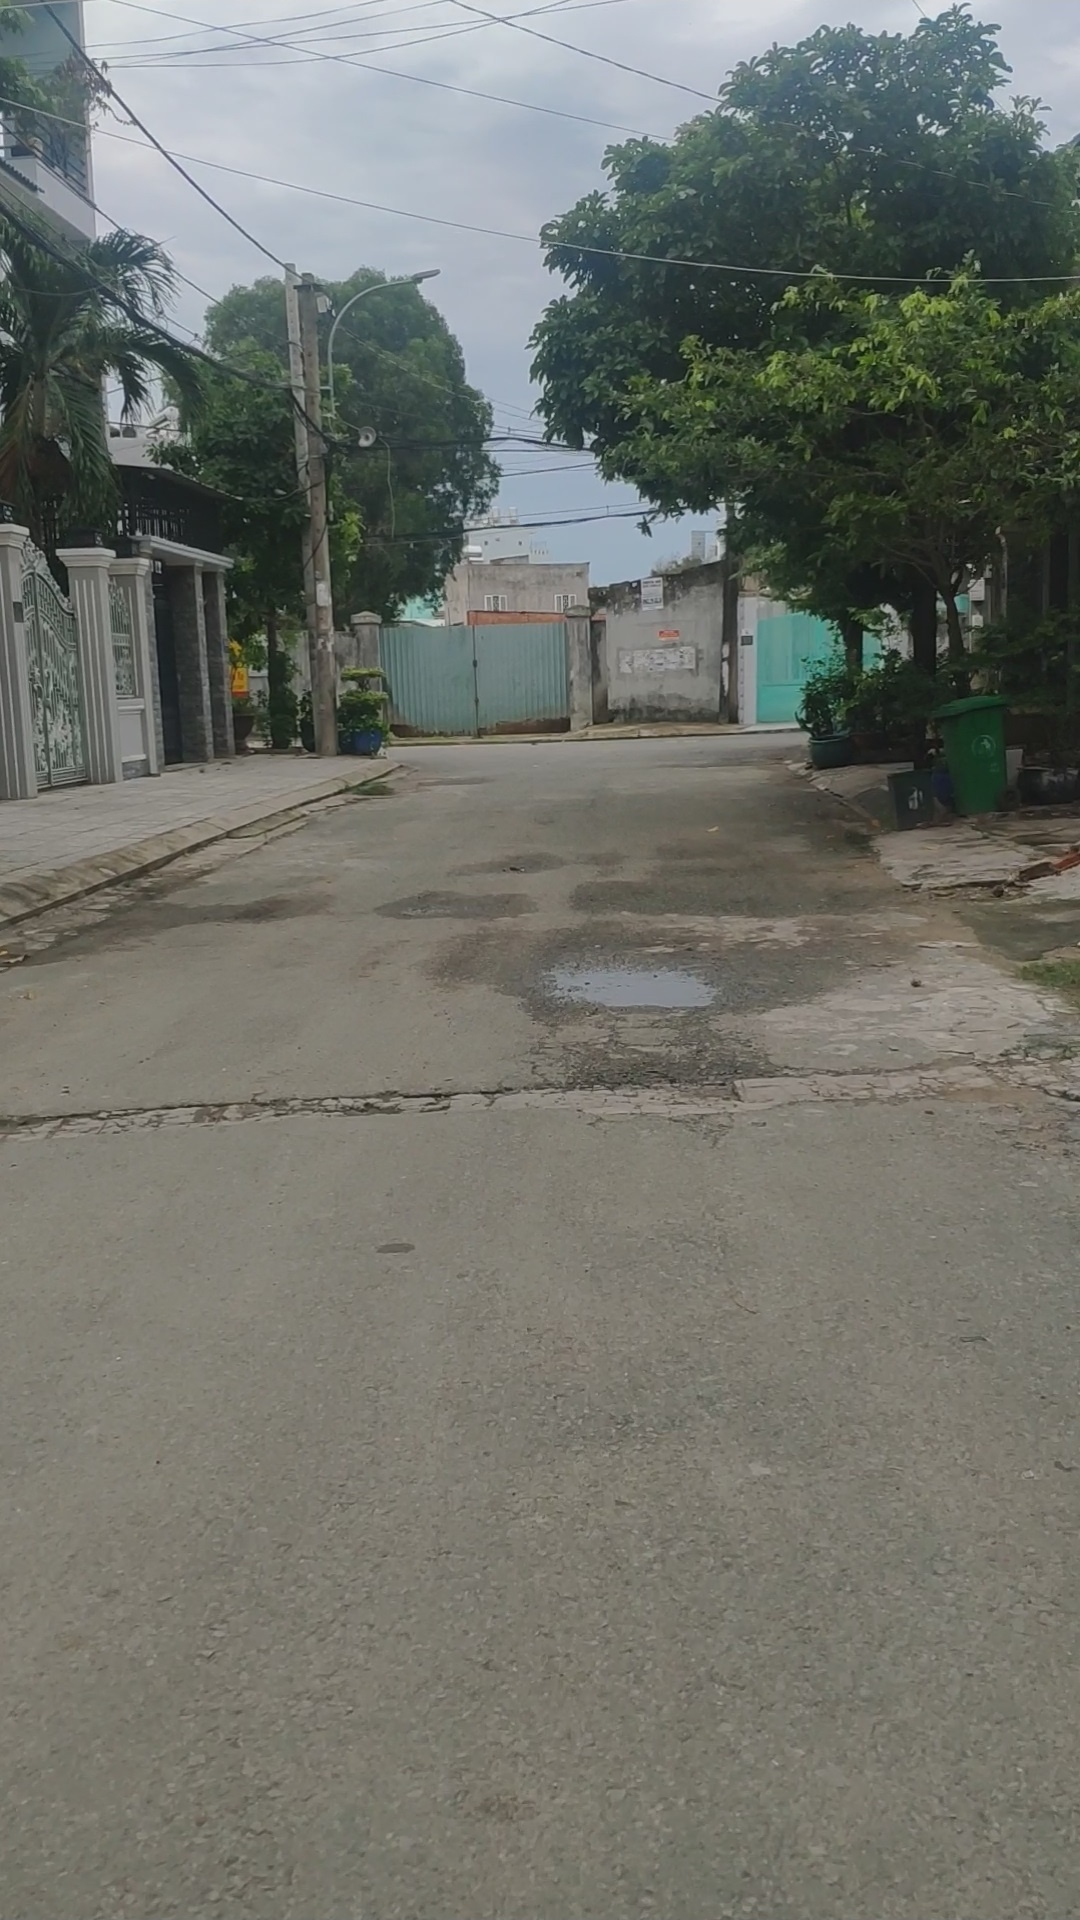hole: (527, 1067, 752, 1122), (545, 957, 731, 1014), (915, 876, 1035, 911)
